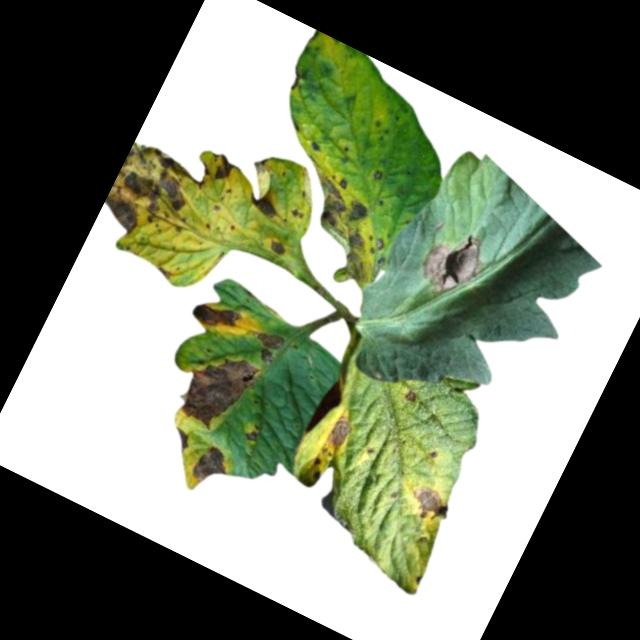Early_blight: (283, 166, 408, 292), (98, 133, 211, 252), (171, 341, 262, 439), (412, 218, 490, 300), (188, 289, 244, 338), (401, 477, 456, 526), (185, 439, 235, 491), (241, 185, 288, 225), (247, 325, 286, 367), (320, 411, 357, 454), (208, 148, 238, 183), (165, 423, 195, 453), (305, 451, 331, 482), (263, 234, 289, 258), (249, 151, 273, 175), (155, 263, 180, 284), (242, 419, 264, 442), (307, 133, 327, 154), (402, 384, 421, 405), (369, 166, 386, 183)
